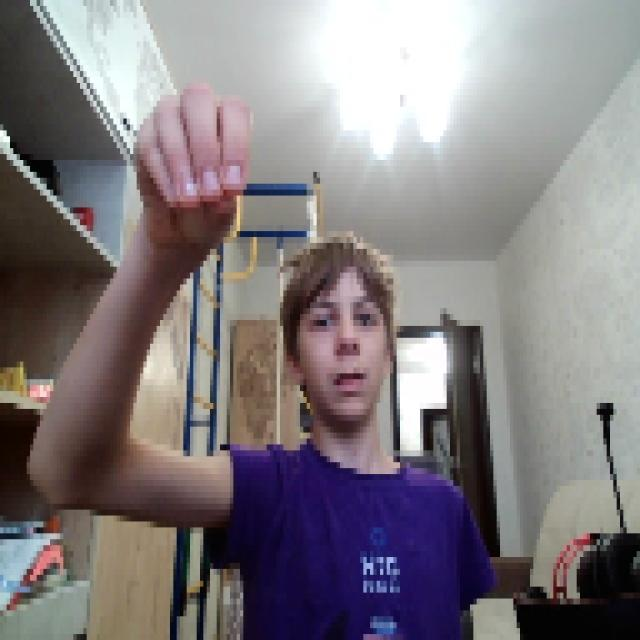left_click: (126, 71, 246, 249)
